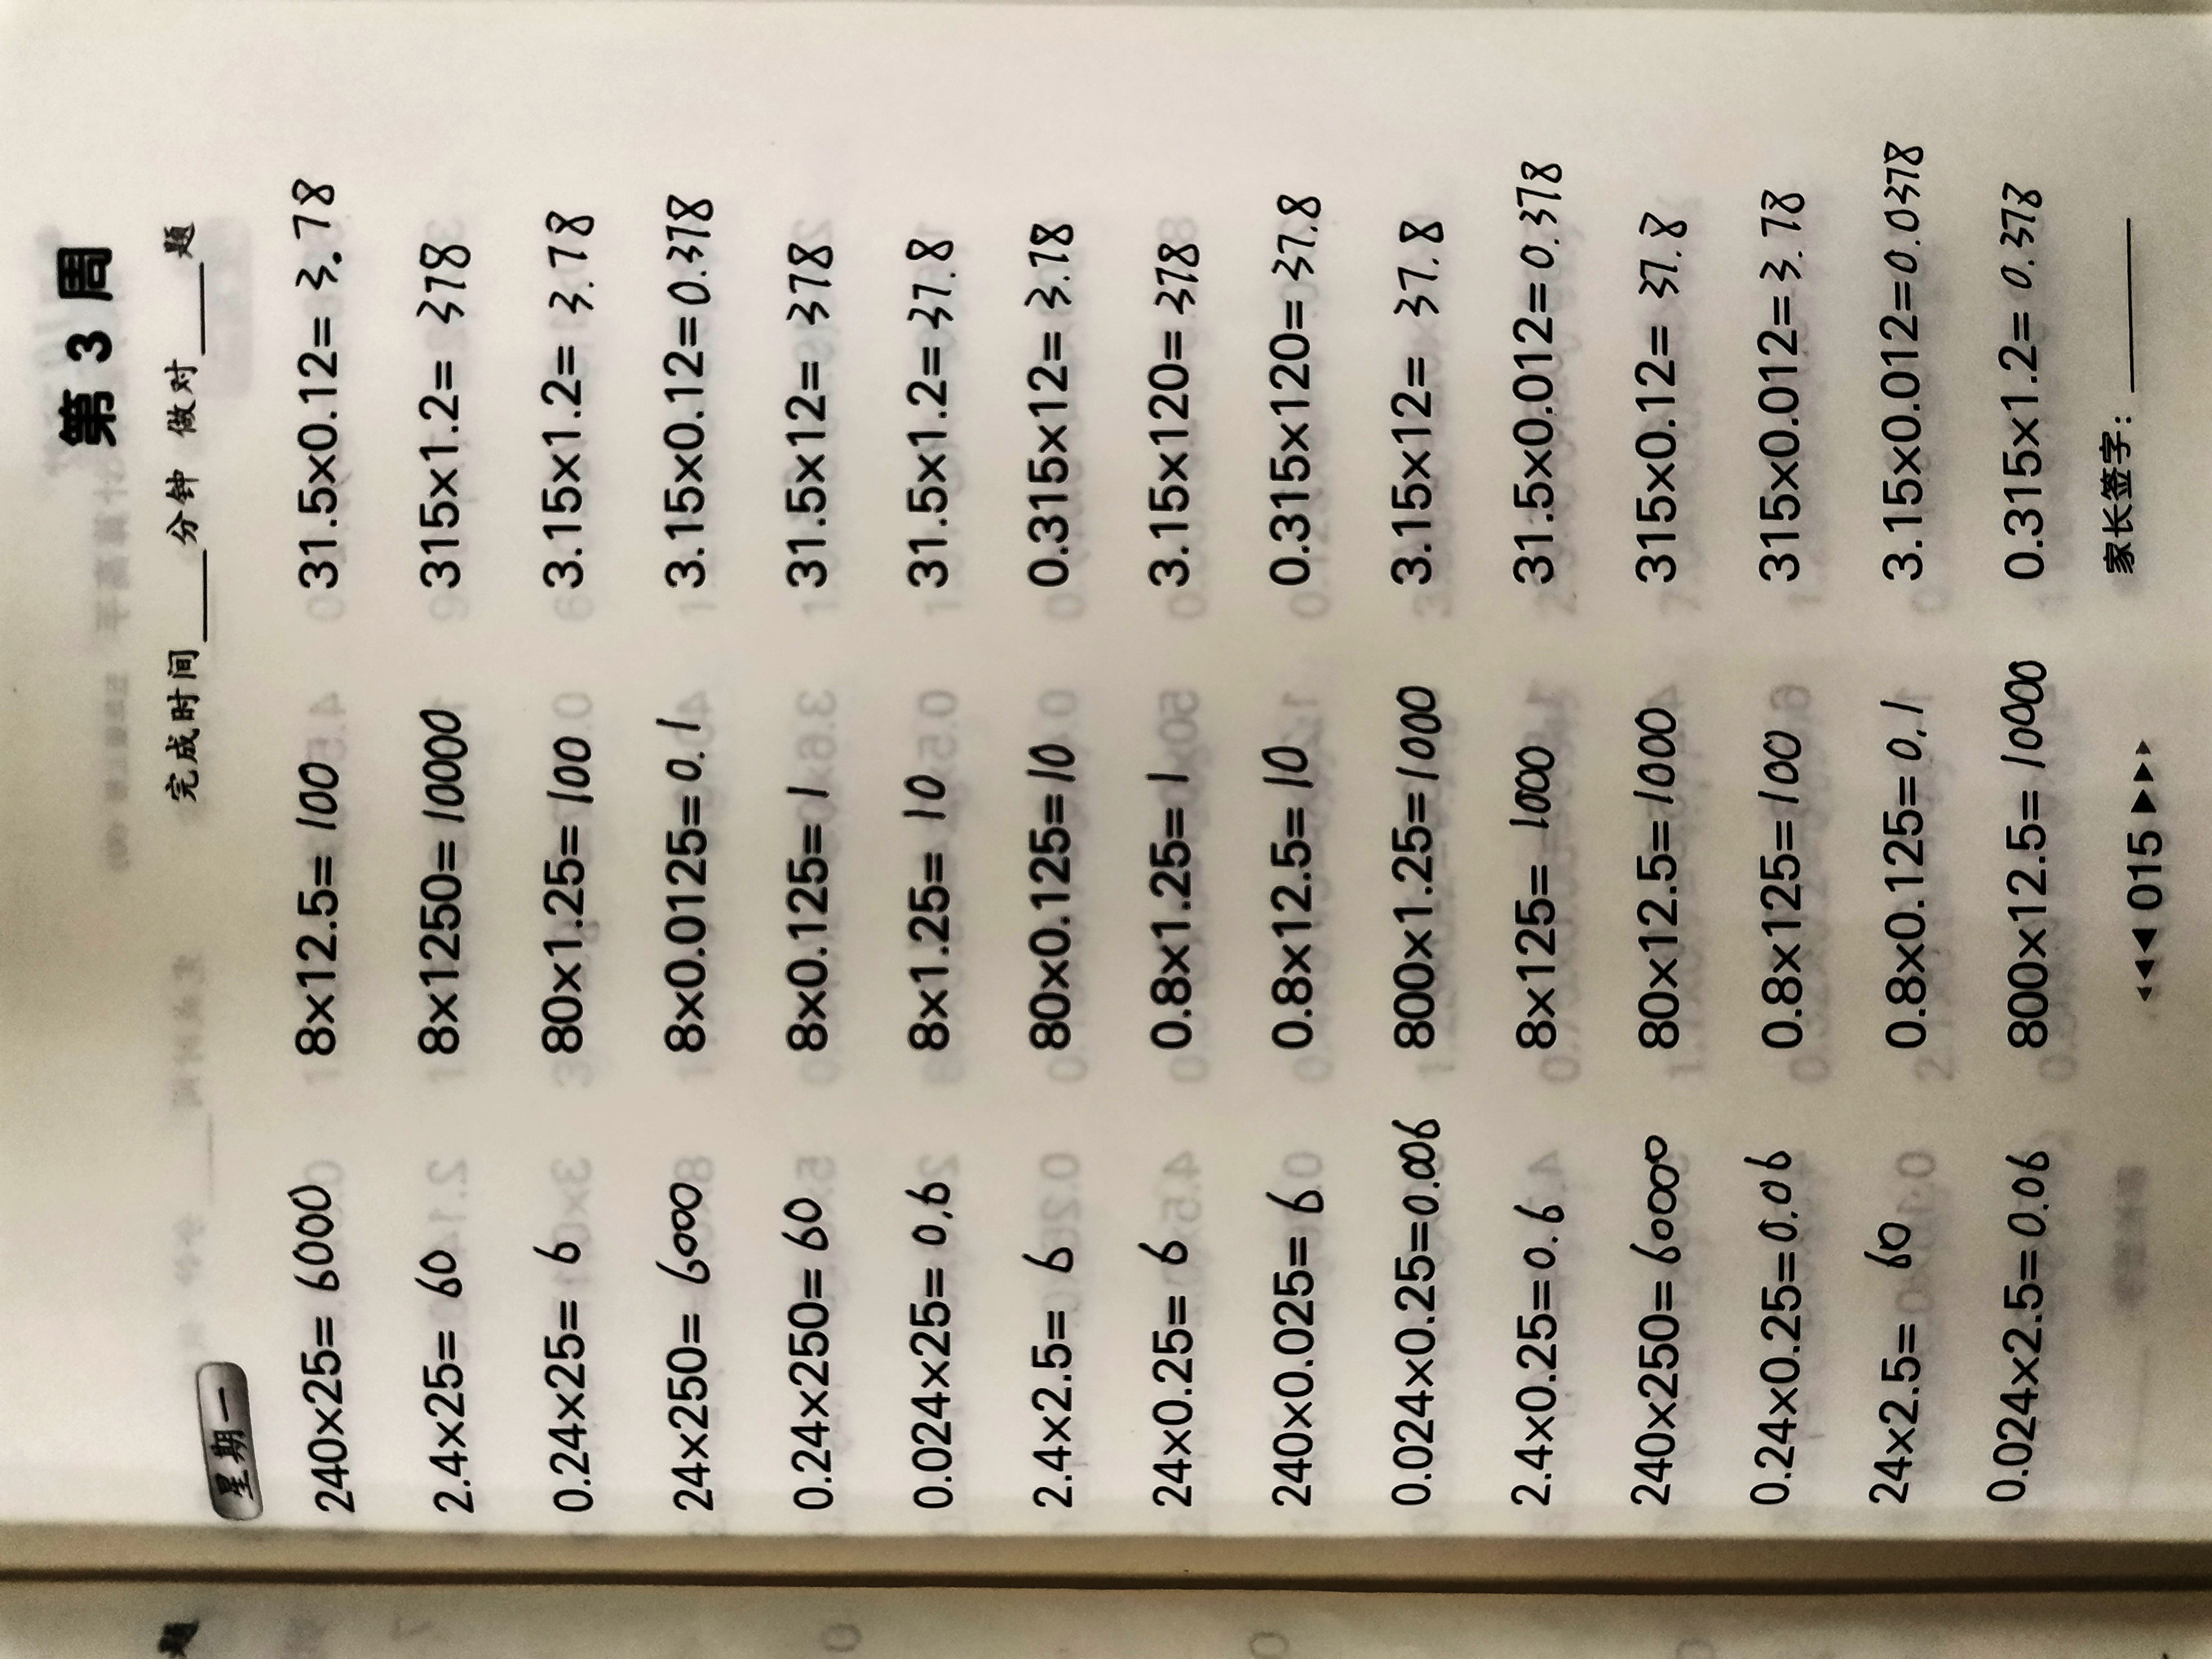equation: (1408, 480, 1974, 545), (177, 1481, 710, 1548), (184, 1204, 710, 1272), (179, 1031, 737, 1094), (1408, 936, 1969, 997), (177, 1297, 698, 1361), (1411, 1026, 1932, 1089), (1423, 1485, 1989, 1543), (804, 1029, 1322, 1091), (1418, 1401, 2052, 1452), (784, 294, 1278, 359), (1418, 1212, 1942, 1273), (1413, 755, 1932, 816), (184, 933, 659, 1000), (1411, 845, 1915, 907), (1418, 1127, 2018, 1179), (1413, 211, 2000, 264), (177, 665, 656, 729), (1408, 393, 1949, 449), (1403, 580, 1937, 636), (1411, 1305, 1978, 1358), (794, 1489, 1340, 1543), (172, 211, 661, 271), (1416, 301, 1910, 361), (1406, 668, 1907, 724), (179, 1116, 634, 1178), (179, 1383, 610, 1448), (177, 572, 632, 633), (789, 395, 1256, 452), (789, 486, 1274, 539), (164, 298, 566, 362), (787, 936, 1234, 994), (179, 486, 651, 540), (787, 665, 1209, 726), (796, 759, 1244, 816), (796, 1306, 1256, 1360), (806, 1402, 1298, 1452), (804, 1218, 1292, 1268), (175, 391, 585, 449), (799, 1127, 1234, 1181), (801, 576, 1194, 635), (794, 208, 1214, 263), (182, 758, 562, 817), (791, 854, 1207, 907), (182, 851, 585, 903)
